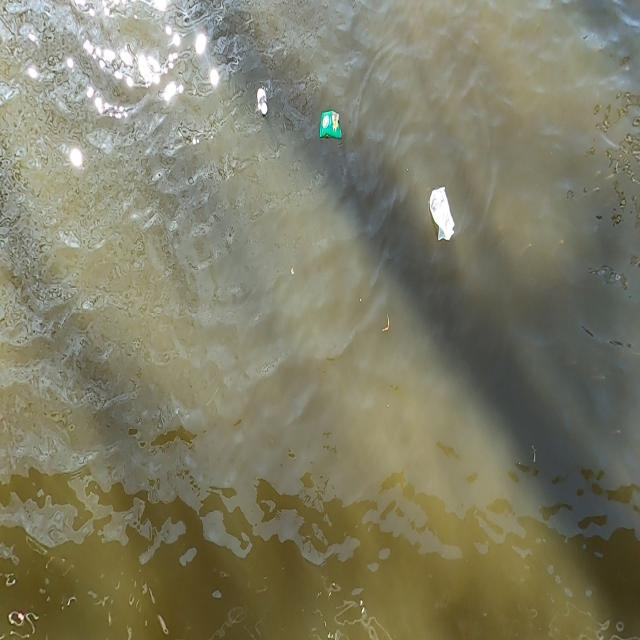Autre plastique: (424, 180, 459, 254)
Bouteille plastique: (253, 81, 268, 122)
